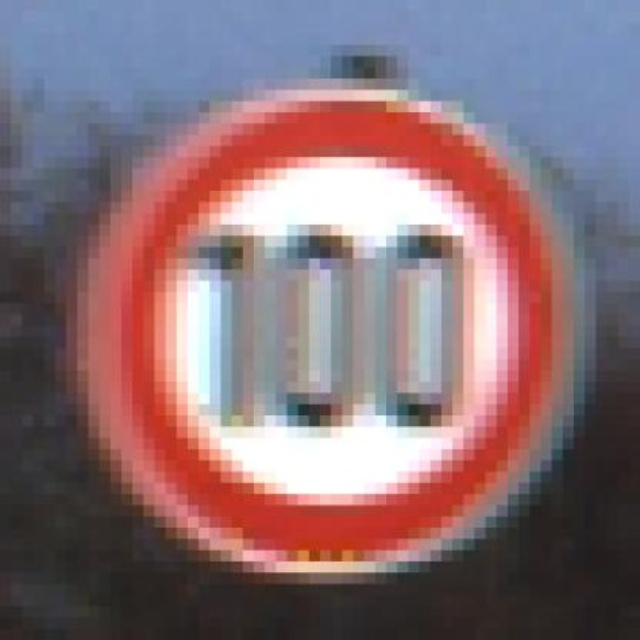Tốc độ tối đa cho phép 100km/h: (113, 93, 560, 560)
